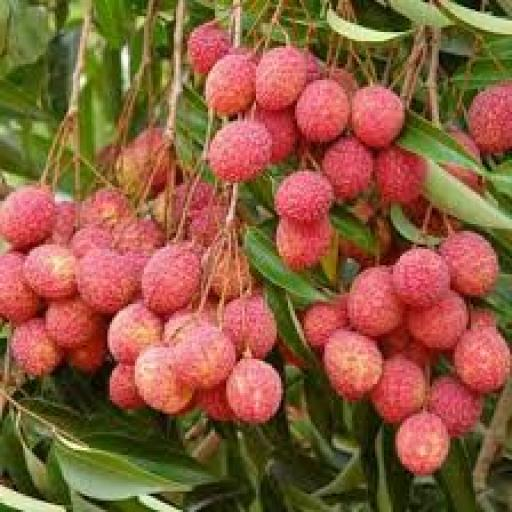lychee: (142, 243, 201, 315), (323, 330, 381, 402), (76, 250, 139, 315), (348, 266, 404, 338), (172, 325, 235, 388), (208, 119, 271, 182), (135, 346, 194, 413), (439, 231, 498, 297), (117, 128, 173, 196), (371, 355, 427, 422), (453, 327, 509, 393), (0, 186, 57, 249), (407, 291, 468, 349), (227, 359, 283, 422), (222, 293, 276, 358), (394, 247, 450, 308), (295, 78, 349, 141), (350, 85, 404, 148), (396, 412, 450, 475), (108, 302, 162, 365), (323, 135, 374, 201), (428, 375, 482, 436), (256, 46, 308, 109), (10, 318, 63, 377), (206, 55, 255, 116), (275, 170, 333, 221), (469, 83, 511, 153), (23, 245, 77, 299), (375, 147, 427, 203), (46, 298, 102, 349), (277, 218, 331, 269), (0, 252, 38, 324), (254, 108, 299, 164), (302, 295, 349, 347), (188, 21, 230, 75), (80, 188, 132, 228), (211, 250, 253, 299), (67, 327, 107, 374), (163, 309, 214, 345), (112, 220, 164, 253), (174, 181, 217, 219), (188, 204, 226, 246), (110, 364, 143, 409), (197, 382, 235, 420), (71, 227, 111, 258), (51, 202, 79, 244), (400, 339, 438, 367), (448, 128, 479, 162), (380, 325, 411, 356), (330, 69, 358, 98), (304, 51, 324, 82), (469, 309, 498, 329)
